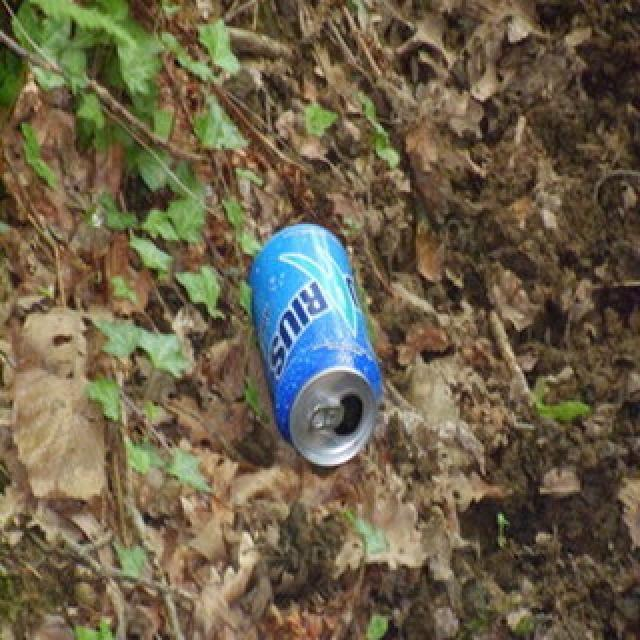can: (250, 219, 388, 467)
